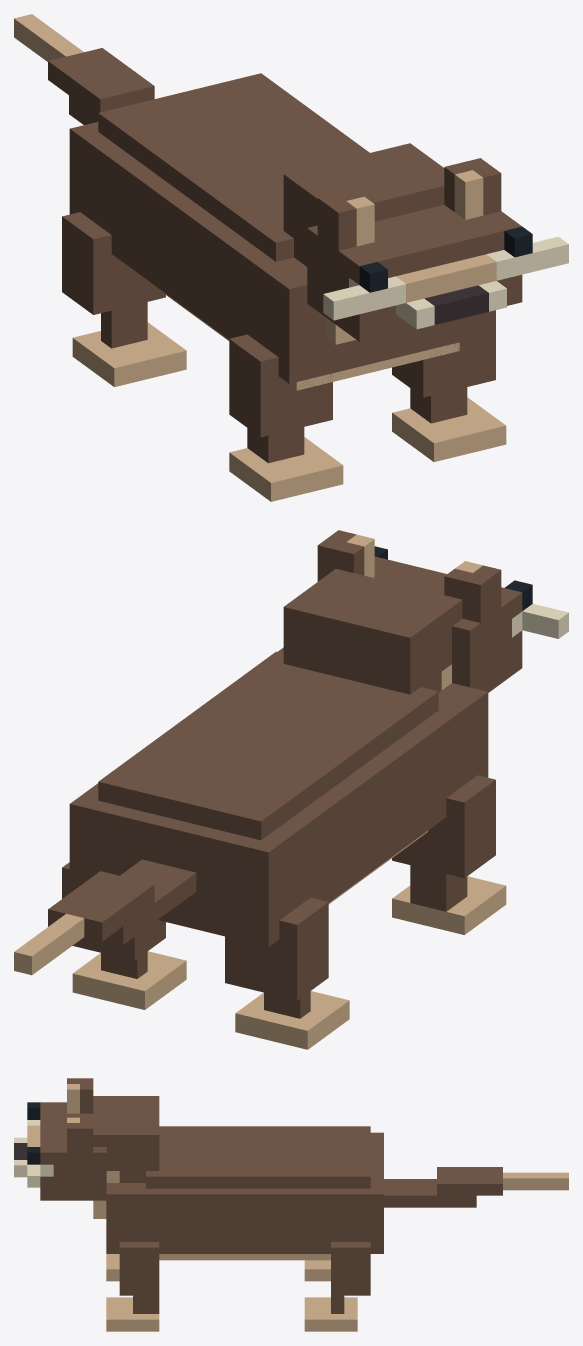
File: shaft_weasel.glb
The picture shows the model from 3 angles, top to bottom: view 1: azimuth 30°, elevation 25°; view 2: azimuth 150°, elevation 25°; view 3: azimuth 270°, elevation 25°; orthographic projection. The views are drawn at different scales.
Parts seen in each view (by area): view 1: shaft_weasel/thorax, shaft_weasel/head, shaft_weasel/left_foreleg, shaft_weasel/left_hindleg, shaft_weasel/right_foreleg, shaft_weasel/neck, shaft_weasel/tail, shaft_weasel/head_ear_l, shaft_weasel/head_ear_r; view 2: shaft_weasel/thorax, shaft_weasel/neck, shaft_weasel/left_hindleg, shaft_weasel/left_foreleg, shaft_weasel/tail, shaft_weasel/head, shaft_weasel/right_hindleg, shaft_weasel/head_ear_l, shaft_weasel/head_ear_r; view 3: shaft_weasel/thorax, shaft_weasel/head, shaft_weasel/neck, shaft_weasel/tail, shaft_weasel/right_foreleg, shaft_weasel/right_hindleg, shaft_weasel/head_ear_l, shaft_weasel/head_ear_r, shaft_weasel/left_hindleg, shaft_weasel/left_foreleg.
Part boxes in pixels (box(x1,y1,x2,y2)): shaft_weasel/thorax: box(69, 73, 488, 390); shaft_weasel/head: box(307, 205, 568, 341); shaft_weasel/left_foreleg: box(229, 334, 343, 501); shaft_weasel/left_hindleg: box(62, 212, 186, 386); shaft_weasel/right_foreleg: box(392, 310, 506, 461); shaft_weasel/neck: box(283, 143, 444, 344); shaft_weasel/tail: box(14, 14, 154, 124); shaft_weasel/head_ear_l: box(317, 189, 374, 250); shaft_weasel/head_ear_r: box(444, 158, 501, 219); shaft_weasel/thorax: box(69, 647, 488, 946); shaft_weasel/neck: box(283, 569, 462, 694); shaft_weasel/left_hindleg: box(225, 897, 349, 1049); shaft_weasel/left_foreleg: box(392, 775, 506, 934); shaft_weasel/tail: box(14, 859, 196, 975); shaft_weasel/head: box(373, 546, 568, 692); shaft_weasel/right_hindleg: box(62, 862, 186, 1009); shaft_weasel/head_ear_l: box(444, 561, 501, 622); shaft_weasel/head_ear_r: box(317, 530, 374, 581); shaft_weasel/thorax: box(106, 1126, 383, 1260); shaft_weasel/head: box(14, 1102, 106, 1200); shaft_weasel/neck: box(93, 1096, 159, 1218); shaft_weasel/tail: box(384, 1167, 568, 1207); shaft_weasel/right_foreleg: box(106, 1242, 159, 1331); shaft_weasel/right_hindleg: box(304, 1242, 370, 1331); shaft_weasel/head_ear_l: box(67, 1078, 93, 1113); shaft_weasel/head_ear_r: box(67, 1117, 93, 1152); shaft_weasel/left_hindleg: box(304, 1260, 330, 1281); shaft_weasel/left_foreleg: box(106, 1254, 119, 1281).
Bounding box in the file's own units: 0.4062 × 0.5 × 1.31.
